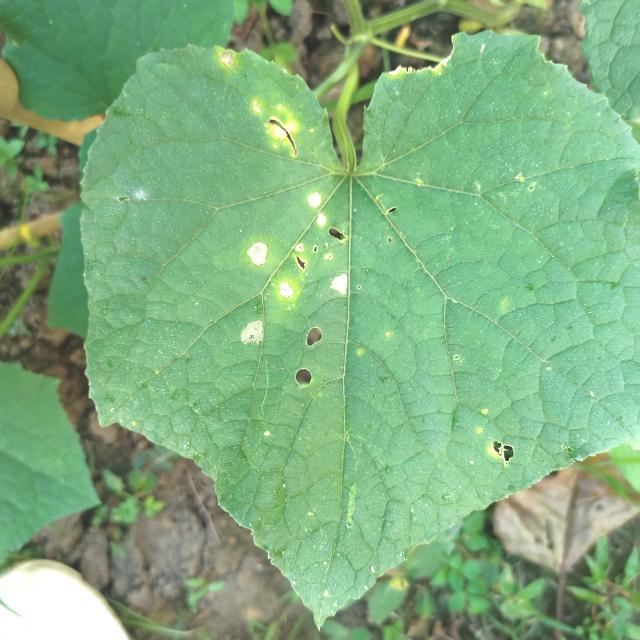disease_cucumber: (226, 185, 357, 351)
